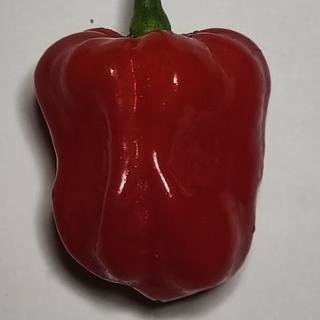Grade-A: (28, 24, 271, 307)
